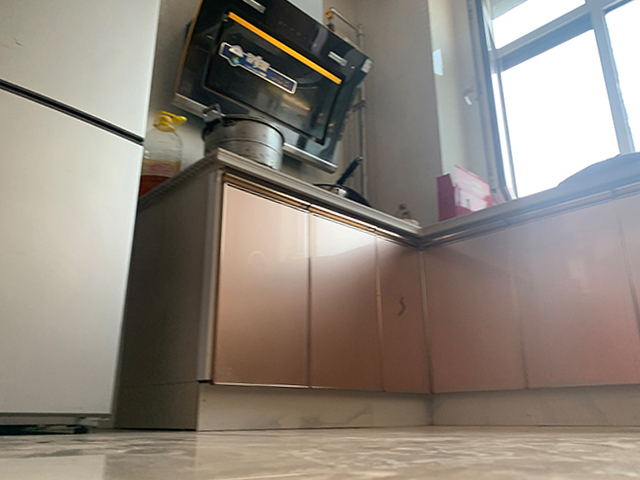cabinet: (173, 149, 426, 426), (420, 190, 640, 432)
